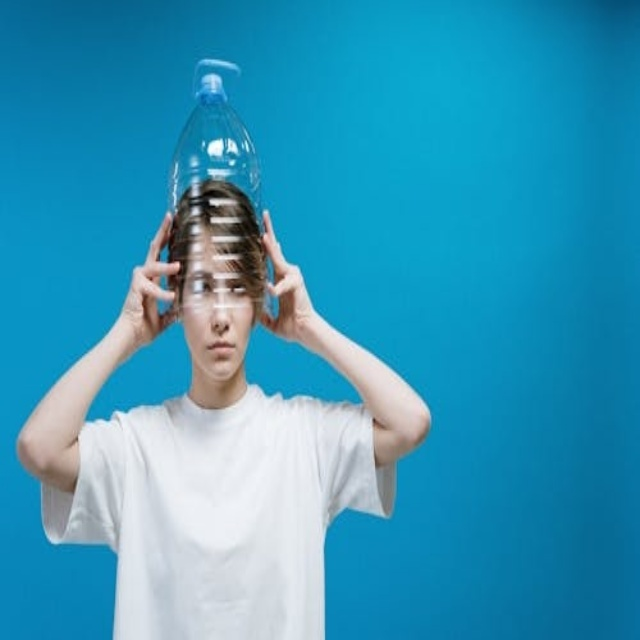Sin_guantes: (124, 210, 184, 349), (256, 212, 314, 344)
Sin_mascara: (200, 336, 237, 379)
